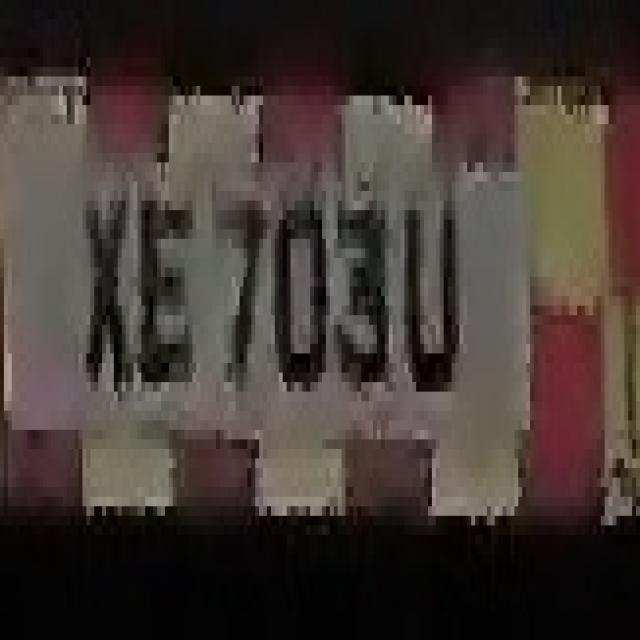0: (271, 181, 334, 411)
3: (322, 134, 397, 430)
7: (200, 143, 267, 411)
E: (138, 162, 196, 420)
U: (401, 134, 464, 420)
X: (82, 134, 142, 420)
